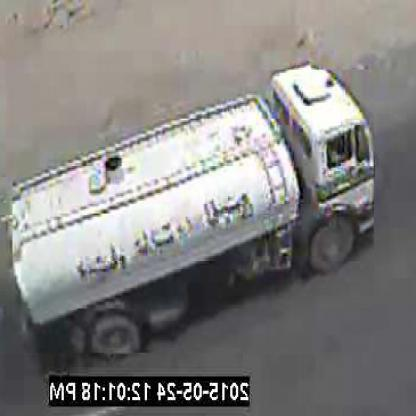truck: (12, 71, 375, 355)
